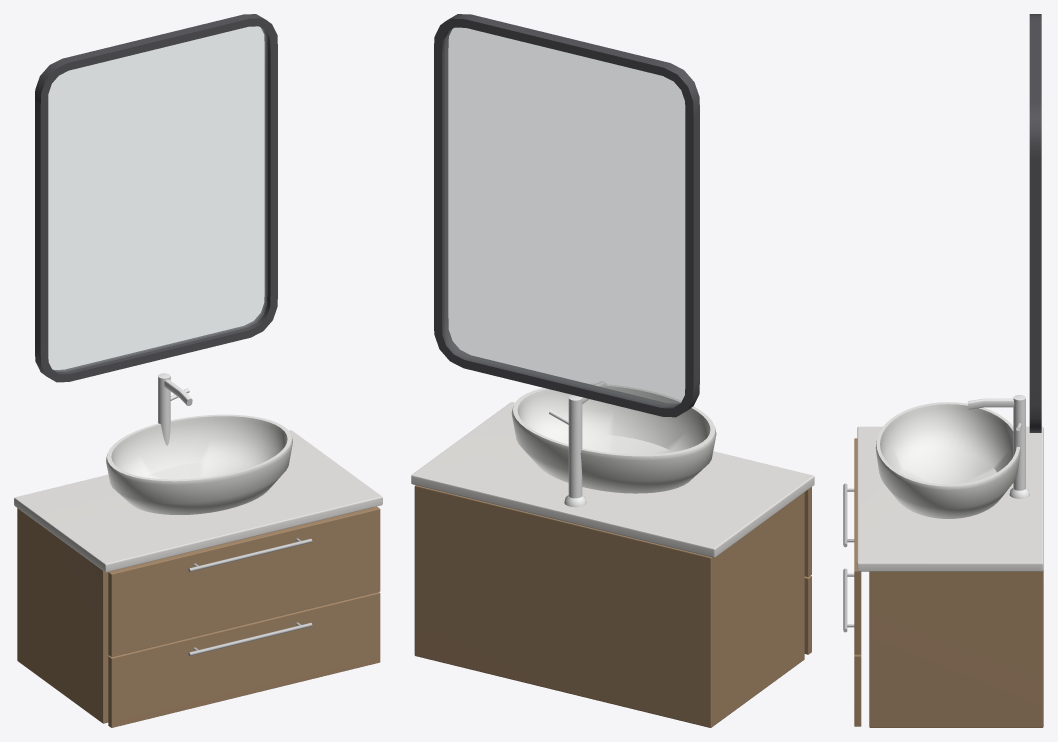
File: BathroomSink.fbx
The picture shows the model from 3 angles, left to right: view 1: azimuth 30°, elevation 25°; view 2: azimuth 150°, elevation 25°; view 3: azimuth 270°, elevation 25°; orthographic projection. The views are drawn at different scales.
Visible parts, largest first — view 1: Vanity, MirrorGlass; view 2: Vanity, MirrorGlass; view 3: Vanity.
Part boxes in pixels (left/top/right/bottom): Vanity: left=14, top=14, right=382, bottom=727; MirrorGlass: left=48, top=26, right=267, bottom=371; Vanity: left=411, top=14, right=814, bottom=727; MirrorGlass: left=444, top=28, right=684, bottom=406; Vanity: left=843, top=14, right=1043, bottom=727.
Size of the model in its own units: 0.82 by 1.67 by 0.505.
